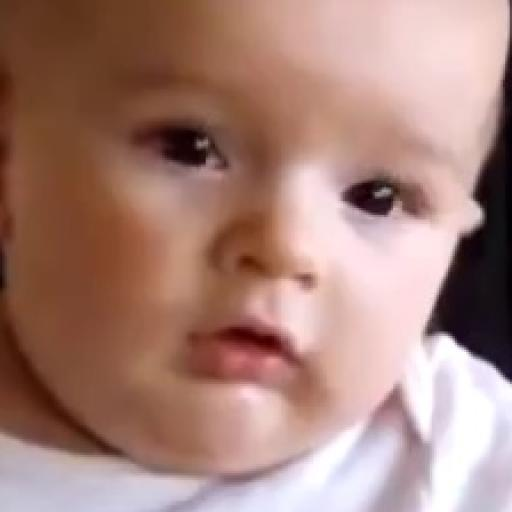Autism: (3, 0, 485, 479)
